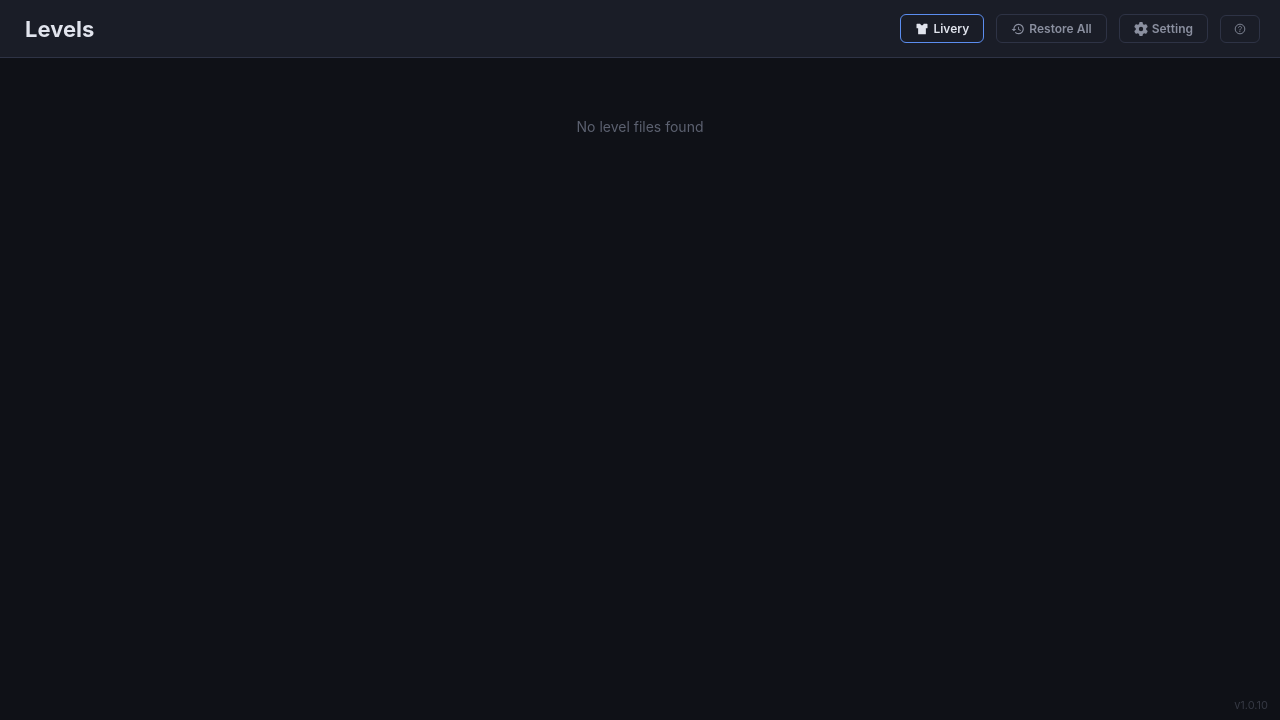
it: Help Button › clicking help button opens the overlay
Expected: the text "Levels" is shown, [25, 16, 94, 42]
Click the button with class "btn-icon-only": {"x": 1240, "y": 28} [1220, 14, 1260, 42]
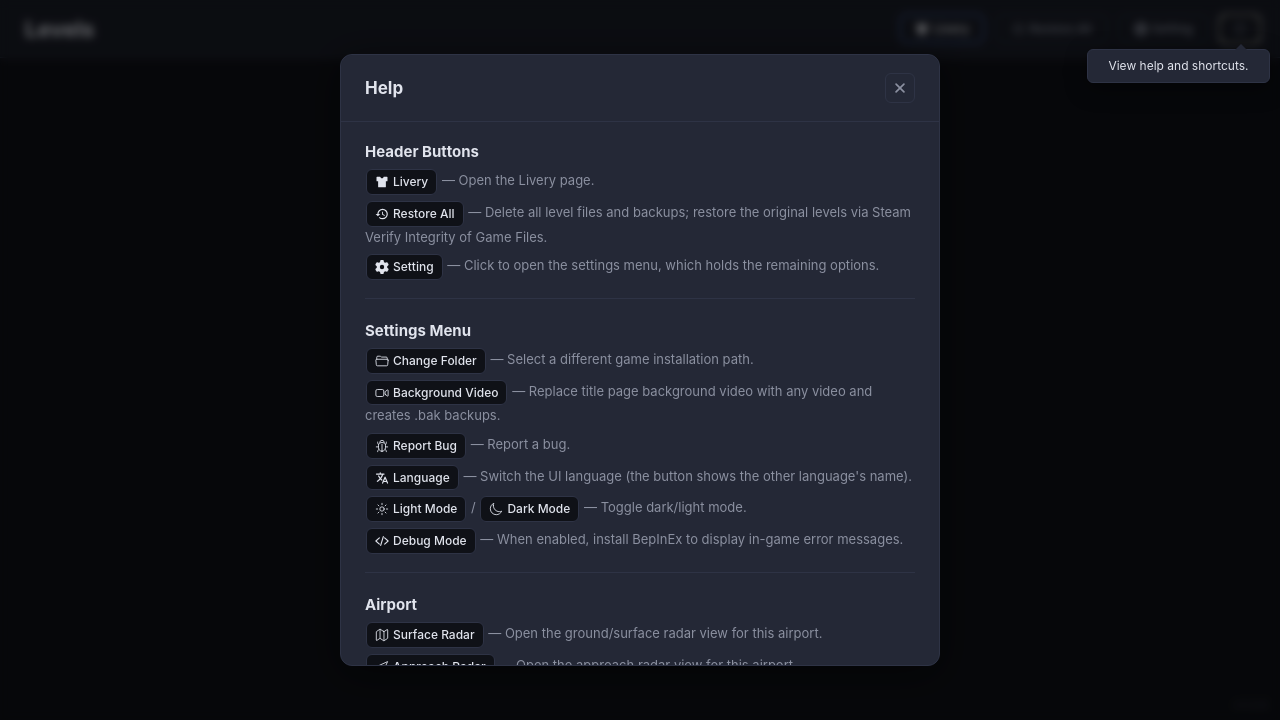
Result: the heading "Header Buttons" is shown at [365, 142, 479, 161]
